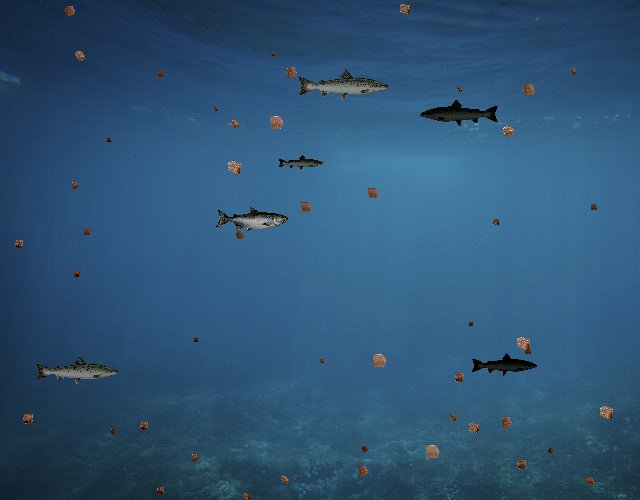Fish: (297, 69, 391, 102), (34, 355, 120, 386), (420, 99, 501, 128), (216, 207, 289, 233), (470, 352, 538, 377), (277, 154, 324, 171)
Pellet: (516, 77, 542, 103), (496, 119, 521, 144), (68, 45, 90, 67), (488, 215, 502, 229), (544, 444, 557, 457), (210, 104, 220, 114)
